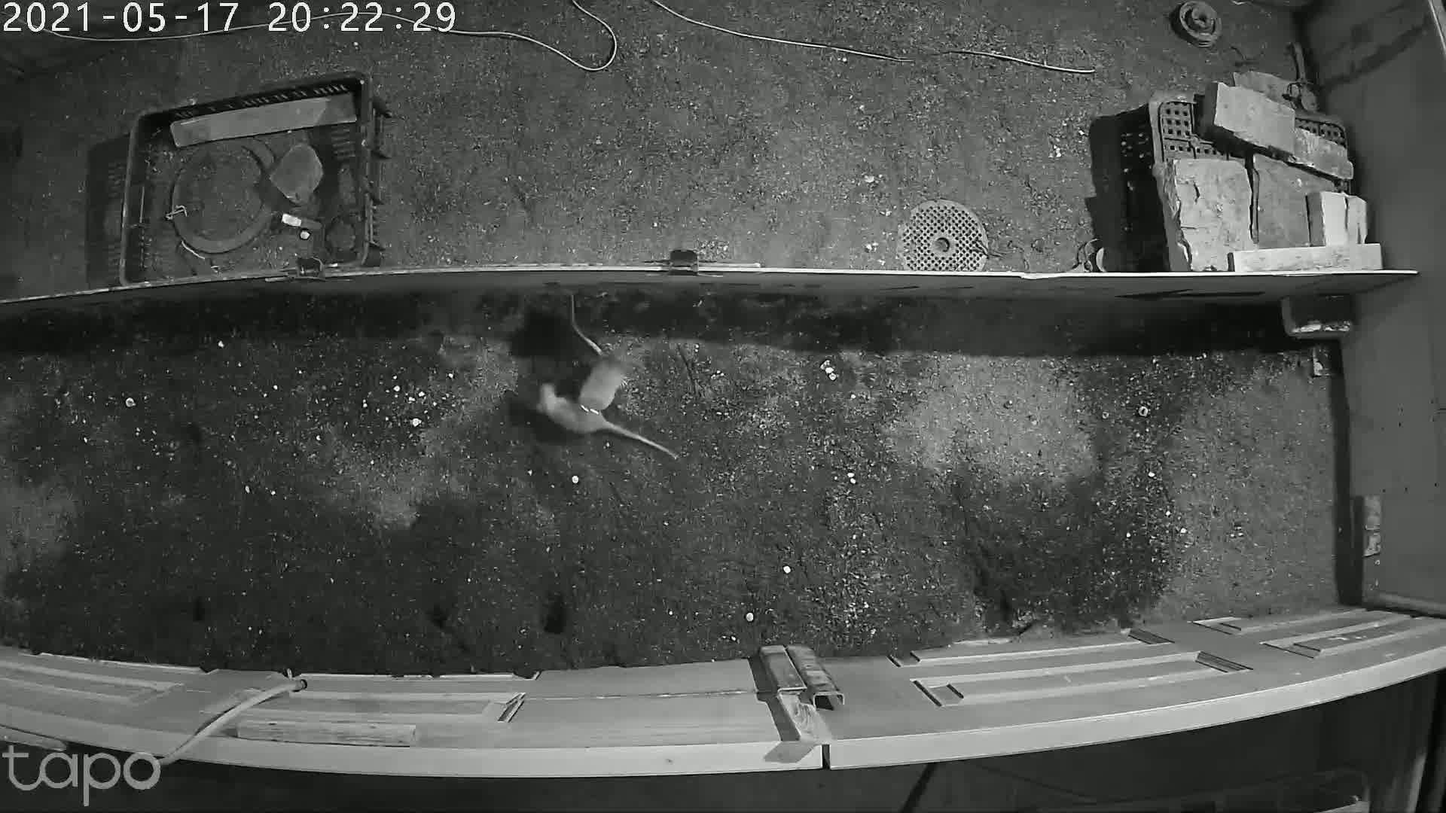rat: (528, 383, 688, 486), (557, 289, 676, 422)
